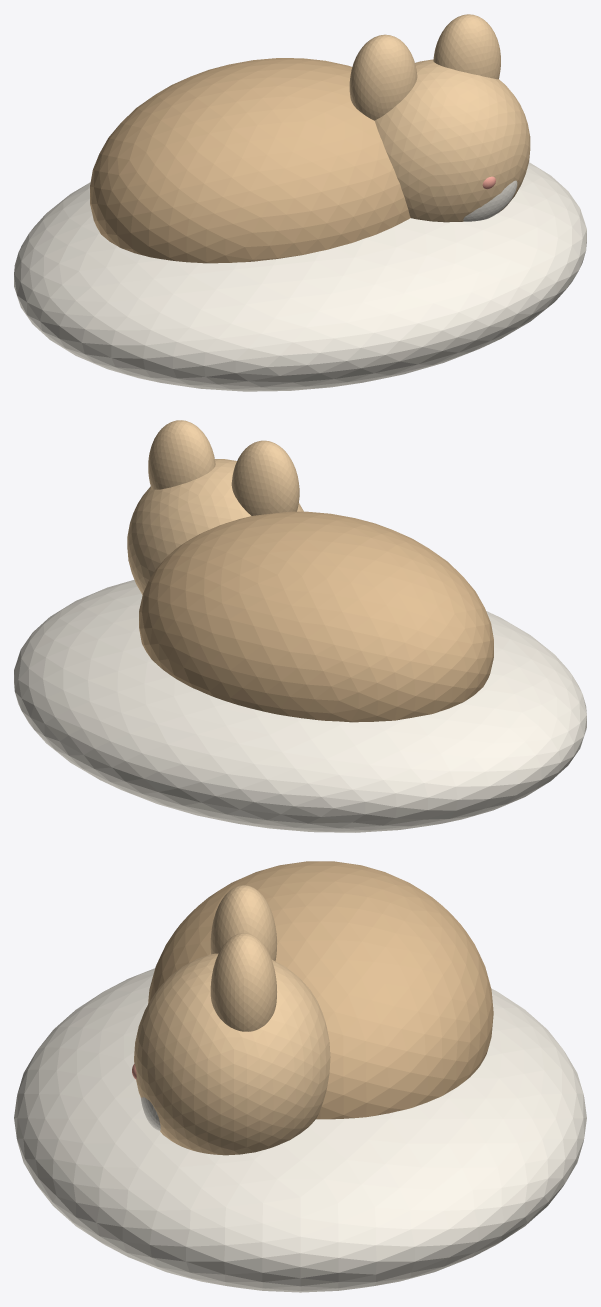
Rendered from sleeping-cat.glb.
3 renders of one model, top to bottom at view 1: azimuth 30°, elevation 25°; view 2: azimuth 150°, elevation 25°; view 3: azimuth 270°, elevation 25°, orthographic. The views are drawn at different scales.
Visible parts, largest first — view 1: bed, body, head, ear0.12, ear0.29, muzzle; view 2: bed, body, head, ear0.12, ear0.29; view 3: bed, body, head, ear0.29, ear0.12.
Part boxes in pixels (<box>): bed: <box>14,162,586,391</box>; body: <box>90,58,410,263</box>; head: <box>375,59,530,222</box>; ear0.12: <box>349,34,417,120</box>; ear0.29: <box>433,14,500,79</box>; muzzle: <box>463,180,517,221</box>; bed: <box>14,580,586,832</box>; body: <box>139,511,493,722</box>; head: <box>127,459,303,594</box>; ear0.12: <box>231,440,299,515</box>; ear0.29: <box>148,420,215,489</box>; bed: <box>14,968,586,1292</box>; body: <box>148,861,493,1119</box>; head: <box>134,953,330,1155</box>; ear0.29: <box>210,933,276,1031</box>; ear0.12: <box>210,885,276,961</box>.
Size of the model in its own units: 1.06 by 0.587 by 0.86.
